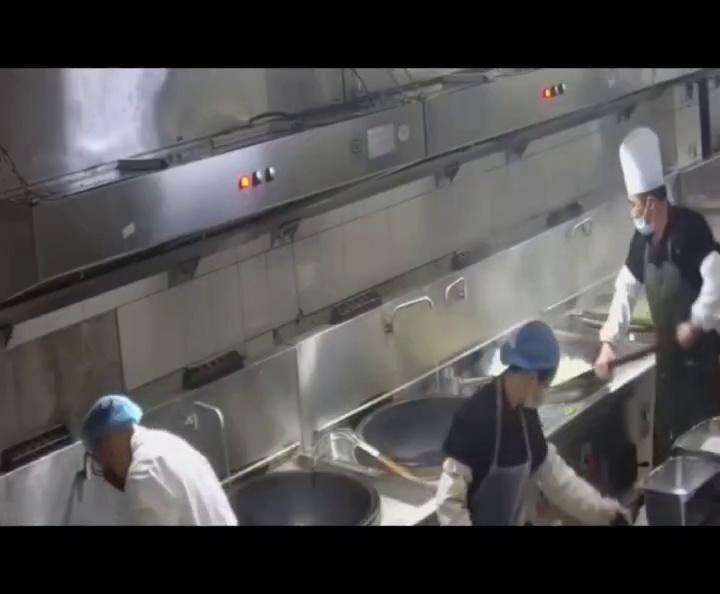gloves: (82, 388, 140, 441), (518, 320, 561, 372)
